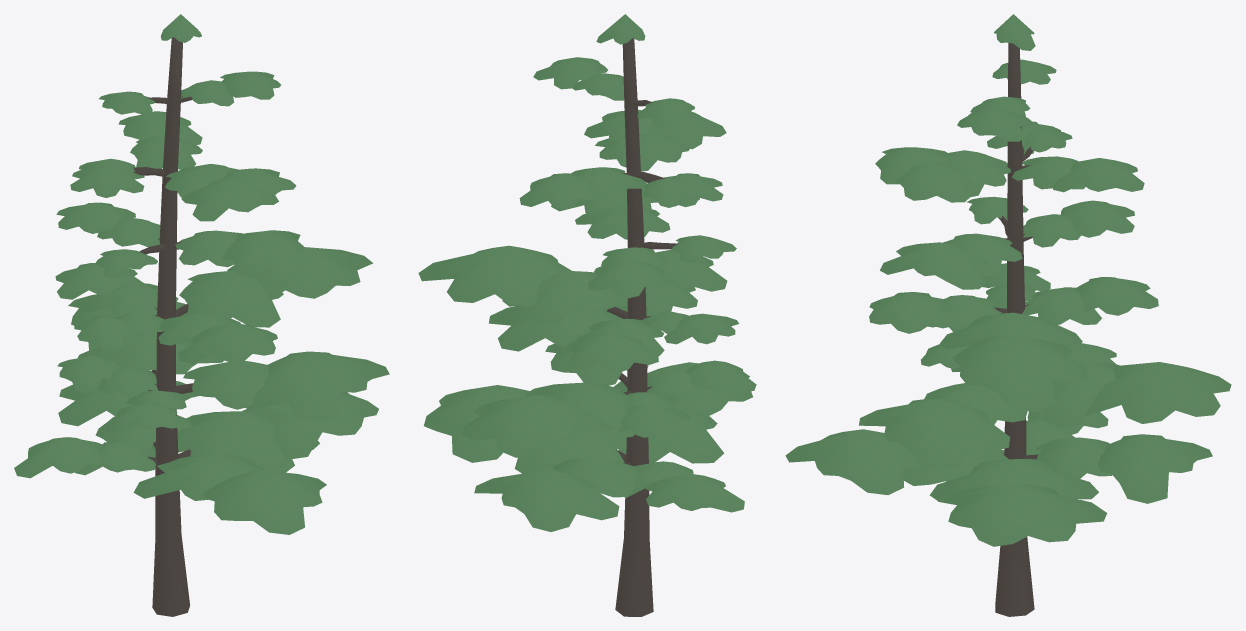
Rendered from Blender_WhitePine_2.glb.
3 views of the same model, side by side, from view 1: azimuth 30°, elevation 25°; view 2: azimuth 150°, elevation 25°; view 3: azimuth 270°, elevation 25° (orthographic).
Visible parts, largest first — view 1: Blender_WhitePine_2; view 2: Blender_WhitePine_2; view 3: Blender_WhitePine_2.
Part boxes in pixels (bbox=[...]): Blender_WhitePine_2: bbox=[14, 14, 389, 616]; Blender_WhitePine_2: bbox=[418, 14, 756, 616]; Blender_WhitePine_2: bbox=[785, 14, 1231, 616].
Bounding box in the file's own units: 14.75 × 24.85 × 16.74.
